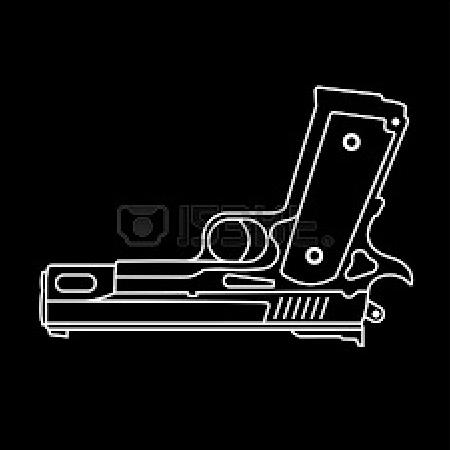Pistol: (40, 82, 410, 346)
